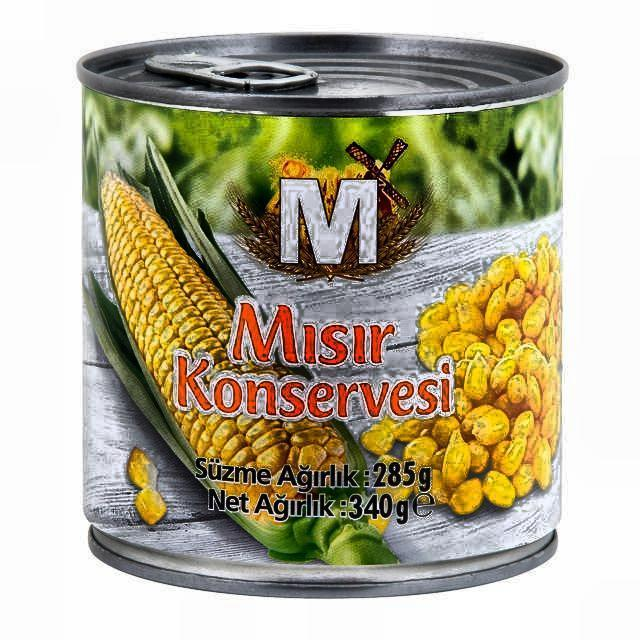metal: (75, 32, 568, 596)
